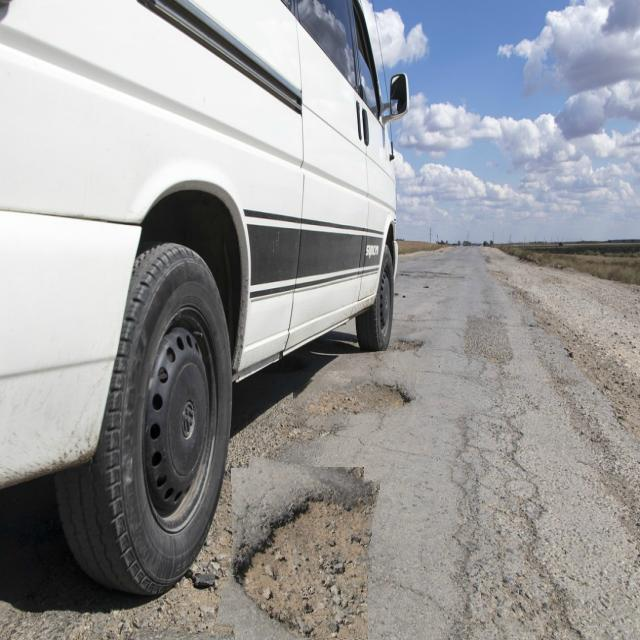Pothole: (222, 462, 372, 640), (293, 371, 416, 432), (398, 328, 432, 367)
